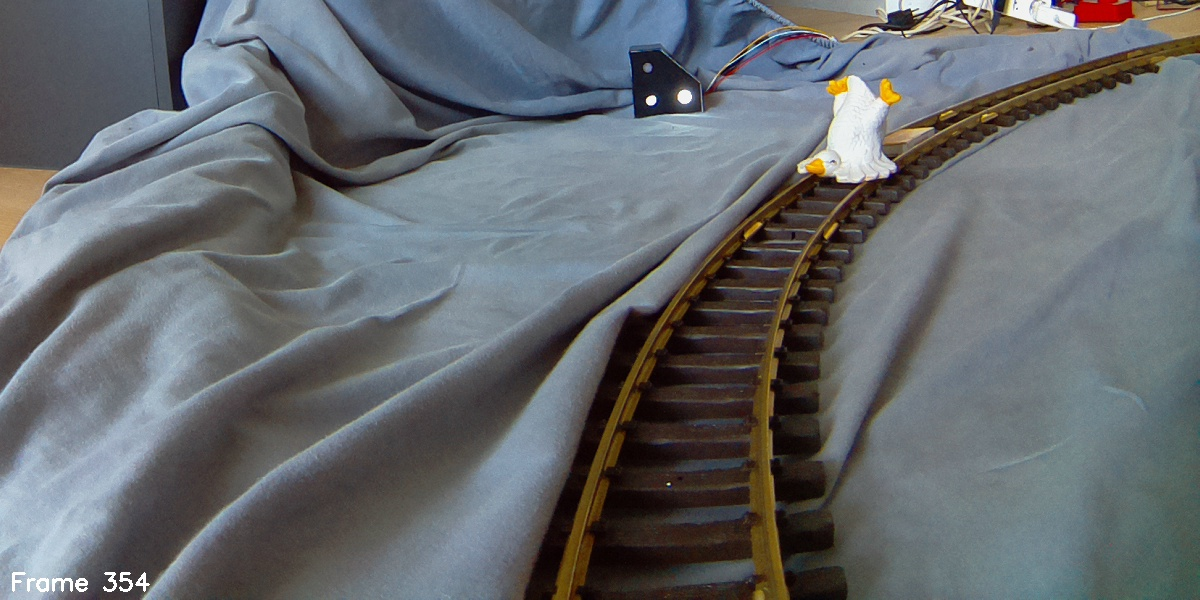Ente: (793, 72, 901, 185)
Halt: (630, 43, 706, 120)
